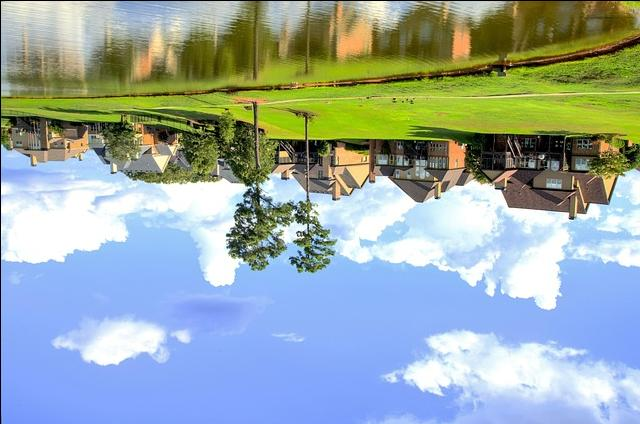Non_Gorille: (2, 0, 638, 423)
